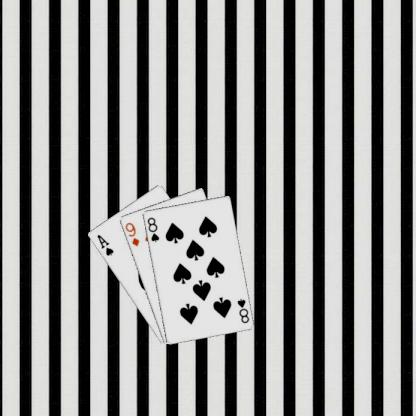8S: (145, 214, 160, 244), (234, 296, 250, 324)
9D: (122, 219, 140, 247)
AS: (94, 232, 115, 257)
